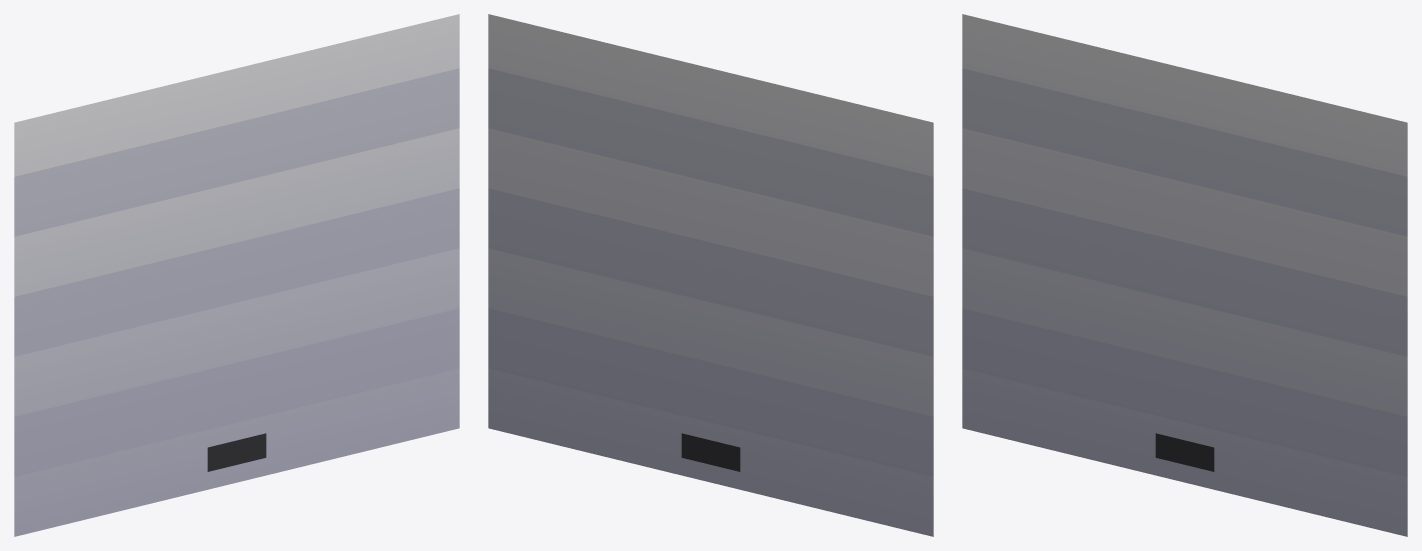
File: door-wide-closed.obj
3 views of the same model, side by side, from view 1: azimuth 30°, elevation 25°; view 2: azimuth 150°, elevation 25°; view 3: azimuth 330°, elevation 25° (orthographic).
Visible parts, largest first — view 1: door-wide-closed; view 2: door-wide-closed; view 3: door-wide-closed.
Part boxes in pixels (x1,y1,x2,y2): door-wide-closed: [14, 14, 459, 536]; door-wide-closed: [488, 14, 933, 536]; door-wide-closed: [962, 14, 1407, 536].
Bounding box in the file's own units: 1.8 × 1.6 × 0.
